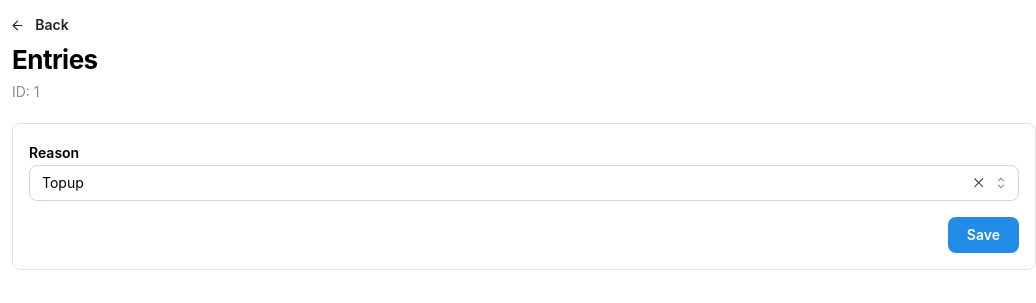
Scenario: DetailPage field_choices › renders an editable enum field as a Select over the catalogue
Click the dropdown showing "Topup" at [524, 183], box x1=29 y1=165 x2=1019 y2=201
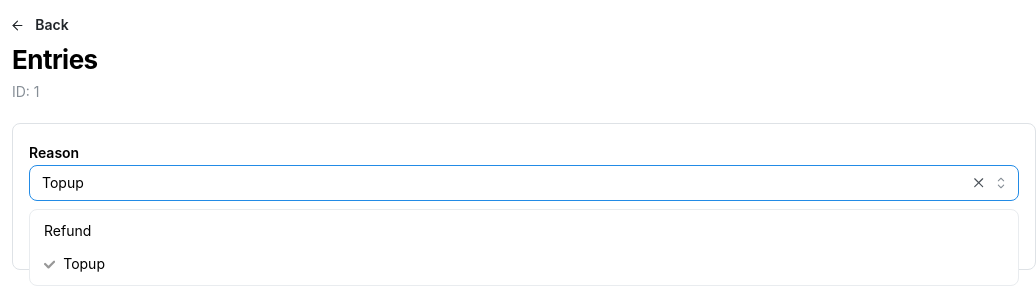
Now the text "Refund" is shown, box x1=44 y1=220 x2=91 y2=241
